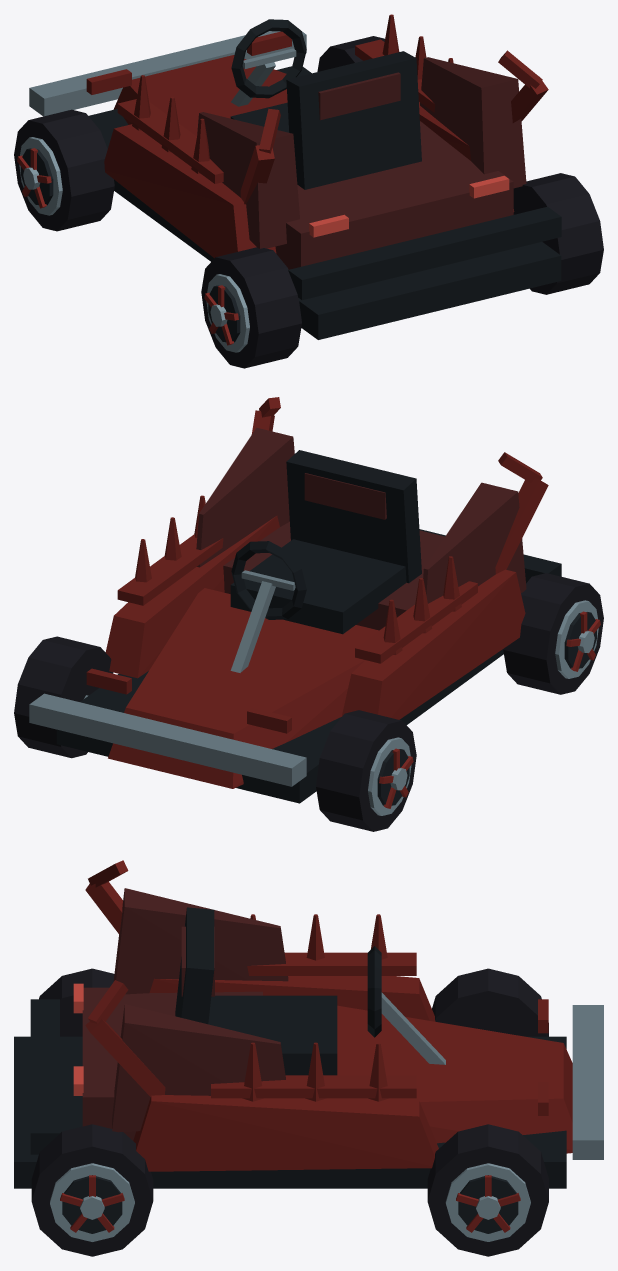
File: kart.glb
3 views of the same model, one above another, from view 1: azimuth 30°, elevation 25°; view 2: azimuth 150°, elevation 25°; view 3: azimuth 270°, elevation 25° (orthographic). The views are drawn at different scales.
Visible parts, largest first — view 1: chassis, wheel-rear-left, wheel-front-left, wheel-rear-right, wheel-front-right; view 2: chassis, wheel-front-left, wheel-rear-left, wheel-front-right; view 3: chassis, wheel-front-right, wheel-rear-right, wheel-front-left, wheel-rear-left.
Boxes of the visible parts, x1,y1,x2,y2 form: chassis: [29, 14, 561, 339]; wheel-rear-left: [201, 247, 301, 368]; wheel-front-left: [14, 109, 114, 231]; wheel-rear-right: [513, 173, 603, 294]; wheel-front-right: [317, 36, 384, 71]; chassis: [29, 397, 561, 803]; wheel-front-left: [316, 710, 416, 831]; wheel-rear-left: [503, 573, 603, 694]; wheel-front-right: [14, 636, 113, 758]; chassis: [14, 860, 603, 1188]; wheel-front-right: [427, 1124, 548, 1256]; wheel-rear-right: [31, 1124, 153, 1256]; wheel-front-left: [432, 968, 548, 1036]; wheel-rear-left: [39, 968, 114, 1036].
Bounding box in the file's own units: 2.32 × 1.38 × 3.01.
